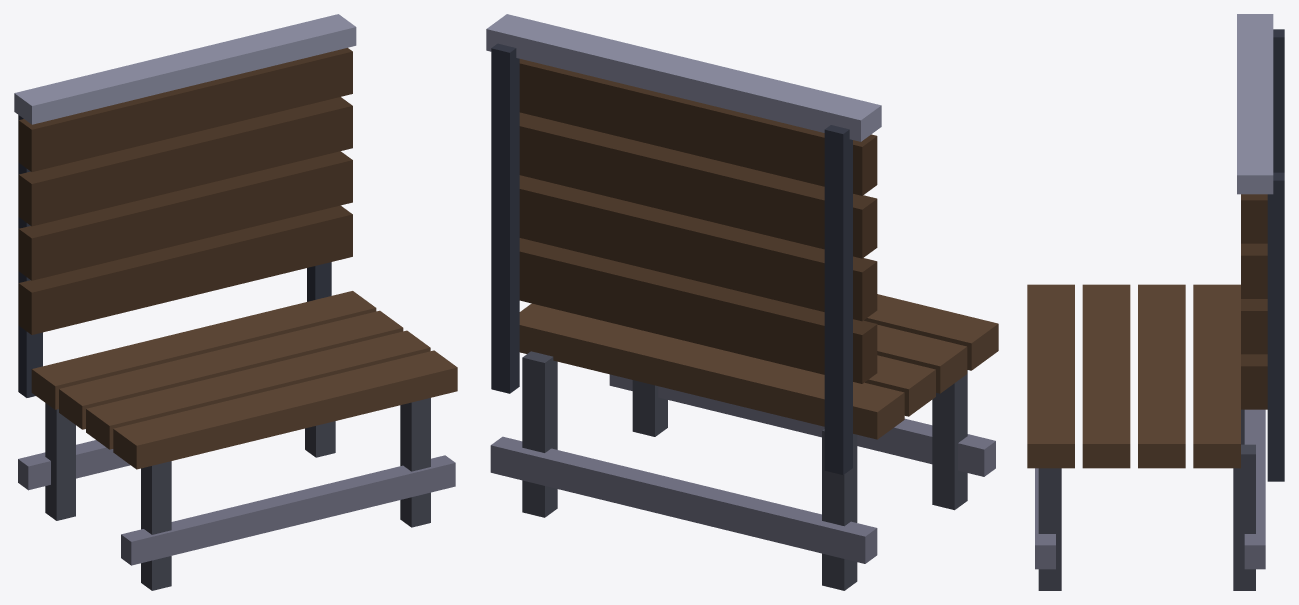
File: CMU3DWoodCouchMiddle.glb
The picture shows the model from 3 angles, left to right: view 1: azimuth 30°, elevation 25°; view 2: azimuth 150°, elevation 25°; view 3: azimuth 270°, elevation 25°; orthographic projection. The views are drawn at different scales.
Parts seen in each view (by area): view 1: wood back slat (×4), wood seat slat (×4), steel lower rail (×2), silver upper back rail, short bench foot (×4), rear steel upright (×2); view 2: wood back slat (×4), wood seat slat (×4), steel lower rail (×2), rear steel upright (×2), silver upper back rail, short bench foot (×4); view 3: wood seat slat (×4), rear steel upright (×2), silver upper back rail, wood back slat (×4), short bench foot (×2), steel lower rail (×2).
Part boxes in pixels (x1,y1,x2,y2): wood back slat (×4): (18, 48, 352, 334); wood seat slat (×4): (31, 291, 457, 469); steel lower rail (×2): (18, 440, 455, 565); silver upper back rail: (14, 14, 356, 124); short bench foot (×4): (45, 398, 430, 590); rear steel upright (×2): (18, 115, 331, 397); wood back slat (×4): (519, 59, 877, 383); wood seat slat (×4): (519, 294, 998, 439); steel lower rail (×2): (490, 374, 995, 563); rear steel upright (×2): (491, 43, 852, 474); silver upper back rail: (486, 14, 881, 141); short bench foot (×4): (522, 351, 967, 590); wood seat slat (×4): (1027, 284, 1240, 468); rear steel upright (×2): (1267, 29, 1284, 481); silver upper back rail: (1237, 14, 1273, 194); wood back slat (×4): (1241, 194, 1267, 409); short bench foot (×2): (1038, 444, 1255, 590); steel lower rail (×2): (1035, 409, 1265, 569).
Size of the model in its own units: 1 by 1.23 by 0.675.
